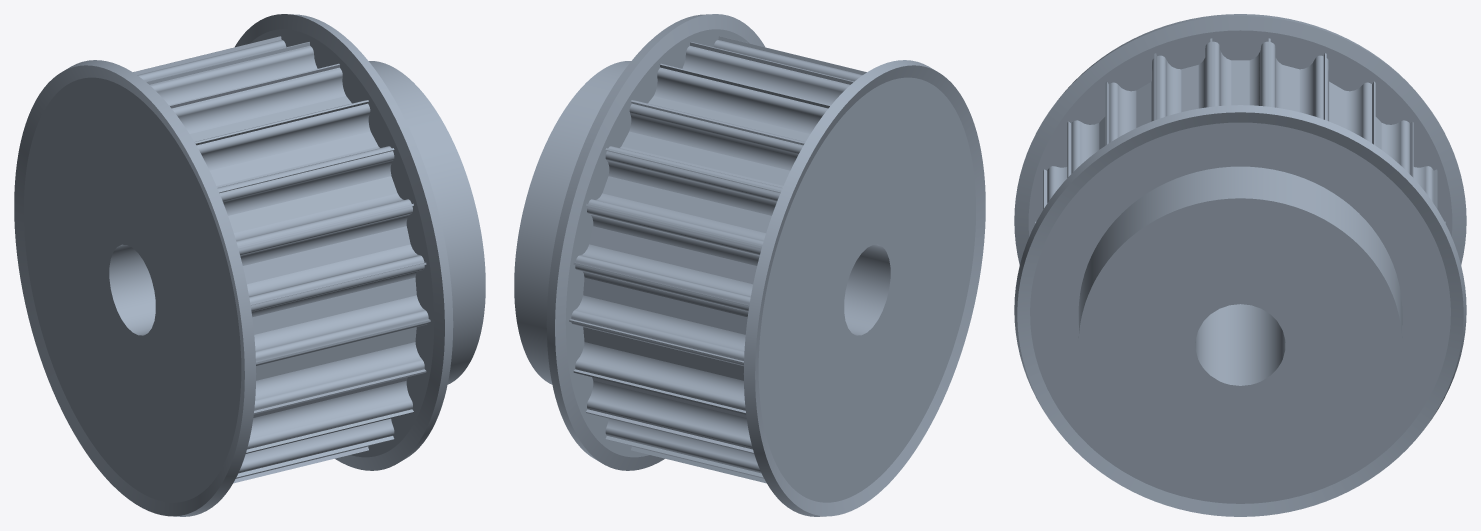
The model's file is belt_wheel_one.obj.
3 renders of one model, left to right at view 1: azimuth 30°, elevation 25°; view 2: azimuth 150°, elevation 25°; view 3: azimuth 270°, elevation 25°, orthographic. The views are drawn at different scales.
Parts seen in each view (by area): view 1: 1; view 2: 1; view 3: 1.
Part boxes in pixels (x1,y1,x2,y2): 1: (14,14,485,516); 1: (514,14,985,516); 1: (1014,14,1466,516).
Bounding box in the file's own units: 40.46 × 60.08 × 60.08.
